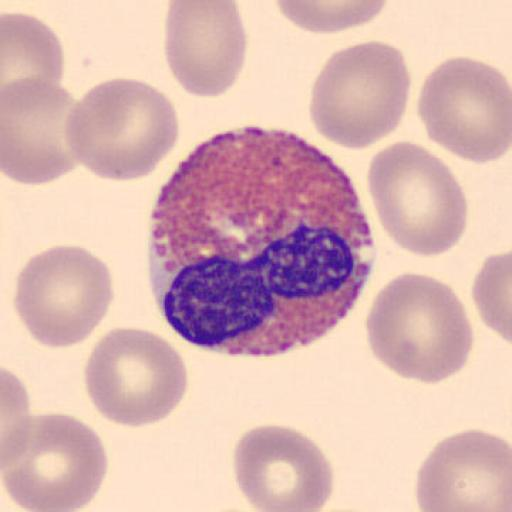RBC: (365, 272, 476, 384), (364, 140, 468, 258), (64, 78, 181, 182), (308, 38, 413, 152), (83, 325, 189, 430), (12, 244, 115, 350), (2, 412, 110, 512), (415, 54, 512, 165), (231, 421, 335, 512), (2, 75, 80, 186), (163, 0, 249, 99), (414, 427, 512, 512), (2, 10, 66, 100), (271, 0, 391, 35), (471, 248, 512, 348), (1, 365, 32, 469)
WBC: (143, 130, 375, 358), (153, 205, 375, 358)
